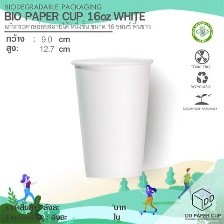paper_cup: (65, 51, 157, 181)
